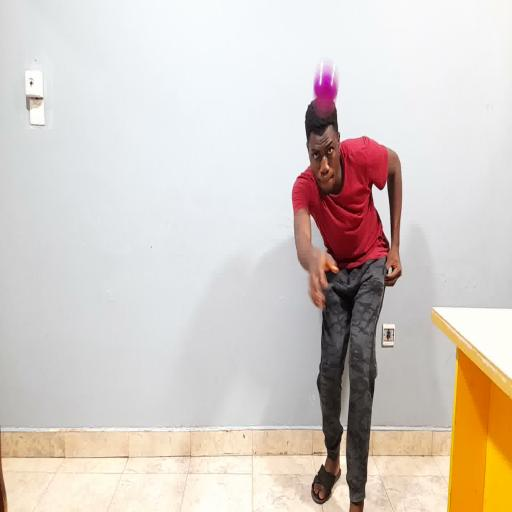plastic-ball: (311, 59, 341, 126)
